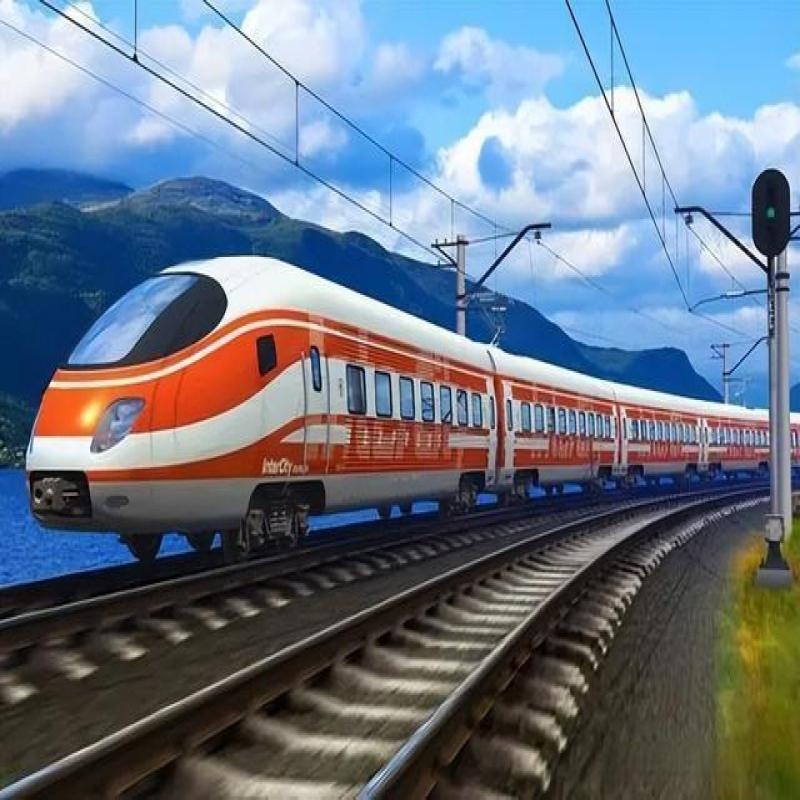train: (54, 231, 705, 576)
